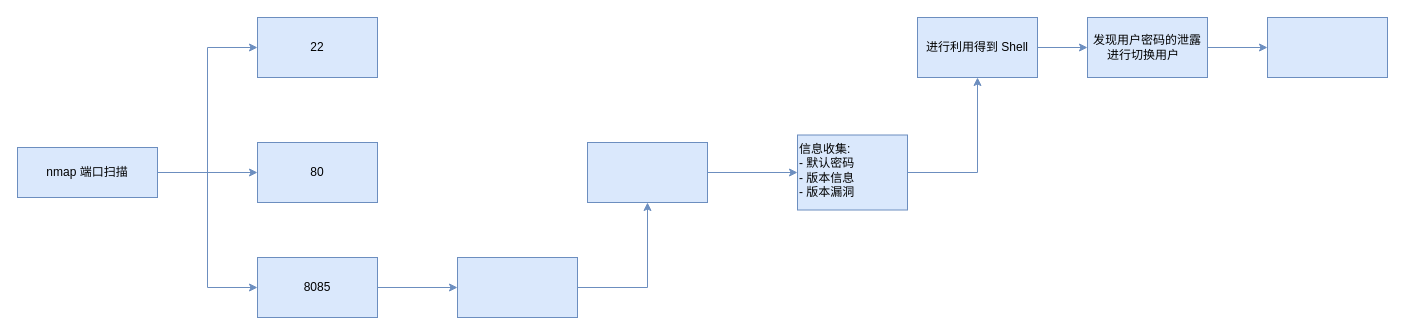
The diagram is 1405 pixels wide and 335 high, and some of its shapes have lost their labels. The shapes that lost their labels are listed below. From the top down, each one's centre as x and y in pixels, then its label:
[1327,47]: 发现 SUID 程序漏洞进行利用
[647,172]: 访问新发现的目录, 发现其是一个 CMS
[517,287]: 进行数字的爆破得到新的目录
